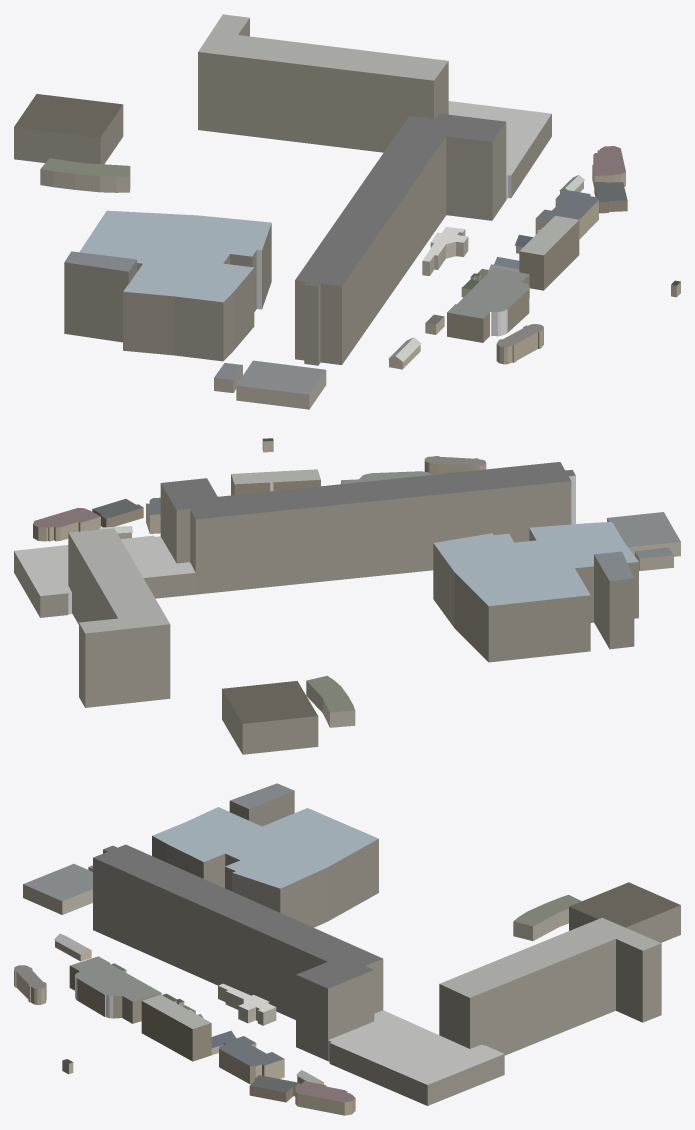
3 renders of one model, top to bottom at view 1: azimuth 30°, elevation 25°; view 2: azimuth 150°, elevation 25°; view 3: azimuth 270°, elevation 25°, orthographic. The views are drawn at different scales.
Visible parts, largest first — view 1: tuile; view 2: tuile; view 3: tuile.
Boxes of the visible parts, box(x1,y1,x2,y2) form: tuile: box(14, 14, 680, 409); tuile: box(14, 438, 680, 754); tuile: box(14, 783, 680, 1115).
Bounding box in the file's own units: 257 × 32.95 × 272.
